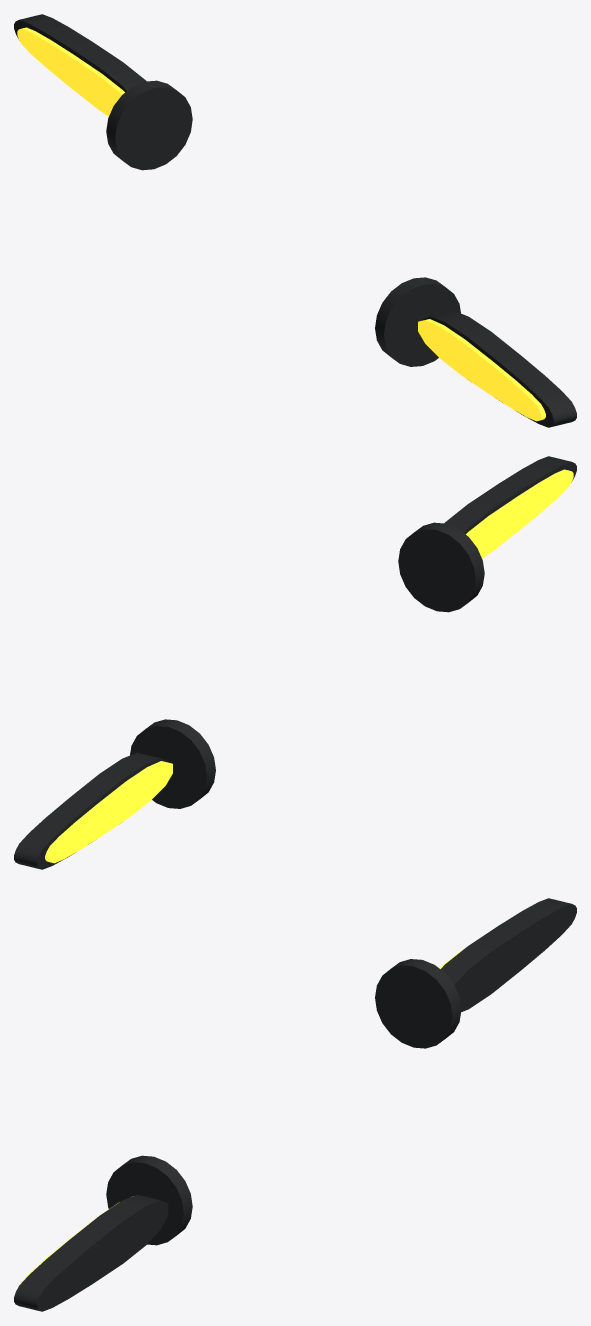
The model's file is flush.glb.
The picture shows the model from 3 angles, top to bottom: view 1: azimuth 30°, elevation 25°; view 2: azimuth 150°, elevation 25°; view 3: azimuth 330°, elevation 25°; orthographic projection.
Parts seen in each view (by area): view 1: indicators_rear_flush; view 2: indicators_rear_flush; view 3: indicators_rear_flush.
Boxes of the visible parts, x1,y1,x2,y2 form: indicators_rear_flush: [14, 14, 576, 427]; indicators_rear_flush: [14, 456, 576, 869]; indicators_rear_flush: [14, 898, 576, 1311].
Size of the model in its own units: 0.02 by 0.02 by 0.241.
